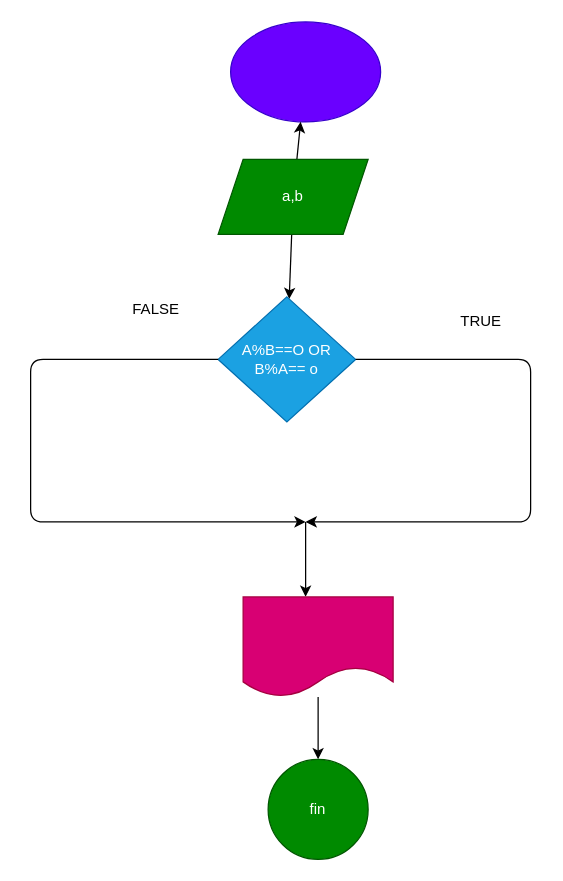
This 563x881 diagram has some shape labels left out. The box of each missing label's shape, as (x1, y1, x2, y2) in pixels:
inicio: (229, 21, 381, 122)
print: (242, 596, 393, 697)
